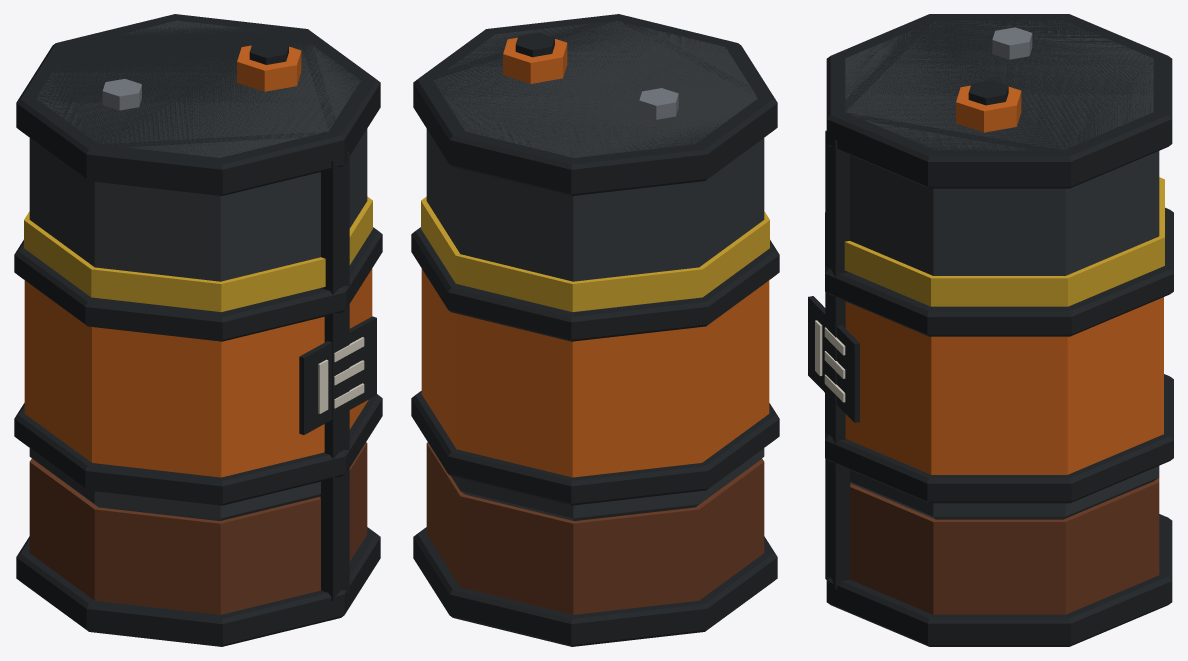
The model's file is desert_barrel.fbx.
3 views of the same model, side by side, from view 1: azimuth 30°, elevation 25°; view 2: azimuth 150°, elevation 25°; view 3: azimuth 270°, elevation 25° (orthographic).
Parts seen in each view (by area): view 1: Body; view 2: Body; view 3: Body.
Boxes of the visible parts, x1=… form: Body: x1=14, y1=14, x2=382, y2=646; Body: x1=411, y1=14, x2=779, y2=646; Body: x1=808, y1=14, x2=1173, y2=646.
Size of the model in its own units: 1.77 by 2.91 by 1.86.
1 material, 1 textured.
